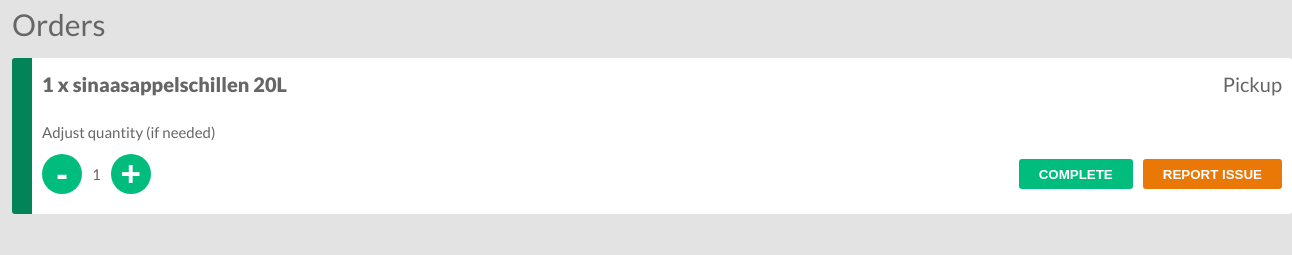
Test: OrderListView unit test › Should renders stream_type, quantity, size, type
Expected: the button "-" is shown, 42,154 -> 82,194
Expected: the button "+" is shown, 111,154 -> 151,194
Step 1. Click the button with class "warning" → [1212, 174], box 1143,159 -> 1282,189
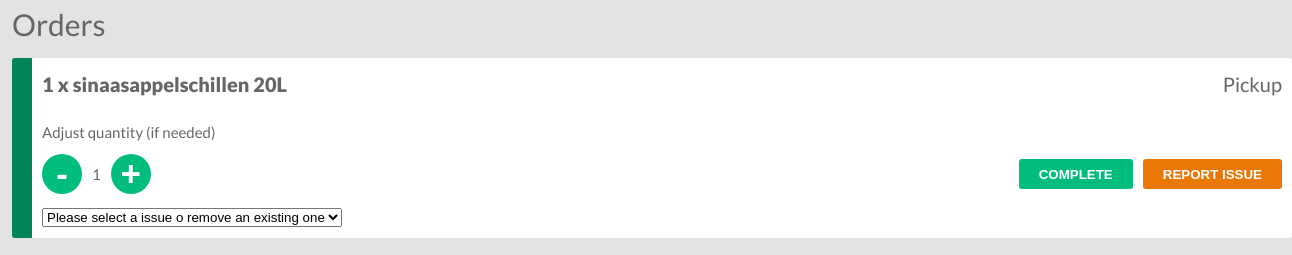
Now the number of dropdowns is 1, box 42,208 -> 342,227
